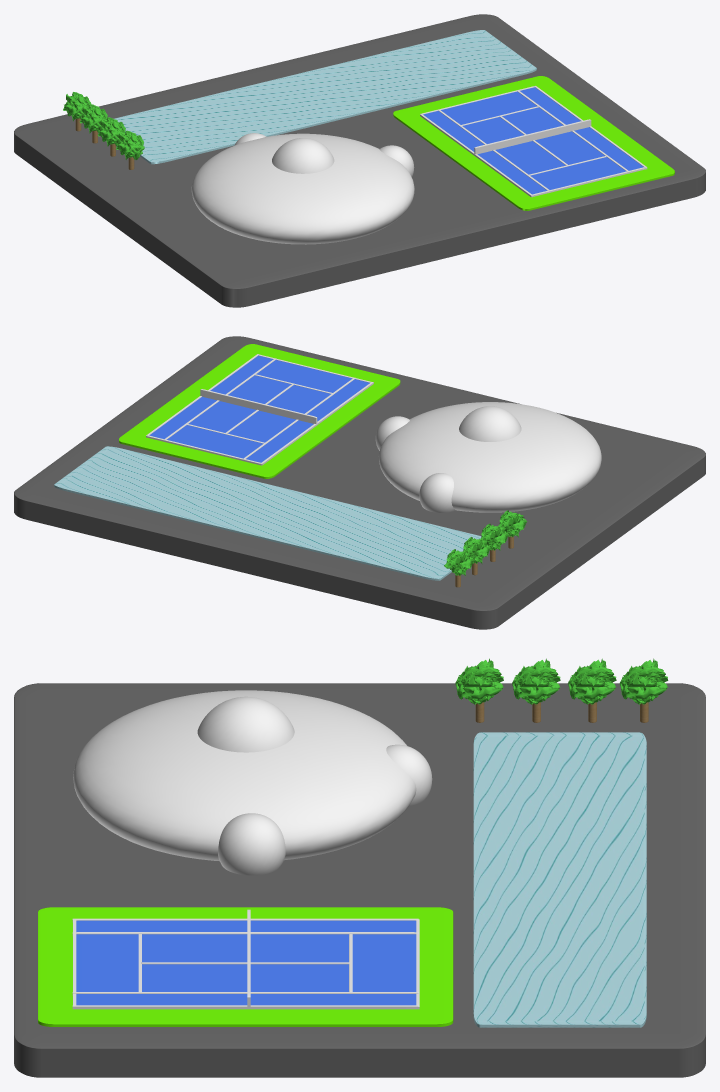
Rendered from country_club.glb.
3 views of the same model, one above another, from view 1: azimuth 30°, elevation 25°; view 2: azimuth 150°, elevation 25°; view 3: azimuth 270°, elevation 25° (orthographic). The views are drawn at different scales.
Visible parts, largest first — view 1: land, water, Sphere 1, court, court_base, Sphere, net, Sphere 3, Box 3; view 2: land, water, Sphere 1, court, court_base, Sphere, Sphere 2, net, Sphere 3, Box 3; view 3: land, water, Sphere 1, court, court_base, Sphere, Sphere 3, Box 2, Sphere 2, Box 3, Box, Box 1.
Part boxes in pixels (bbox=[...]): land: bbox=[14, 14, 705, 307]; water: bbox=[114, 30, 536, 164]; Sphere 1: bbox=[191, 133, 414, 244]; court: bbox=[423, 87, 643, 194]; court_base: bbox=[393, 76, 674, 210]; Sphere: bbox=[272, 138, 334, 173]; net: bbox=[474, 119, 591, 154]; Sphere 3: bbox=[379, 145, 414, 177]; Box 3: bbox=[420, 114, 532, 197]; land: bbox=[14, 336, 705, 629]; water: bbox=[54, 446, 481, 580]; Sphere 1: bbox=[379, 402, 601, 512]; court: bbox=[149, 355, 369, 462]; court_base: bbox=[119, 344, 400, 478]; Sphere: bbox=[459, 406, 521, 441]; Sphere 2: bbox=[419, 473, 455, 512]; net: bbox=[200, 389, 317, 423]; Sphere 3: bbox=[375, 416, 409, 450]; Box 3: bbox=[261, 382, 373, 465]; land: bbox=[14, 683, 705, 1077]; water: bbox=[473, 732, 646, 1027]; Sphere 1: bbox=[73, 690, 416, 861]; court: bbox=[76, 920, 416, 1005]; court_base: bbox=[38, 907, 453, 1026]; Sphere: bbox=[197, 696, 294, 752]; Sphere 3: bbox=[218, 813, 285, 875]; Box 2: bbox=[72, 1005, 418, 1009]; Sphere 2: bbox=[386, 744, 432, 805]; Box 3: bbox=[72, 918, 418, 922]; Box: bbox=[72, 932, 418, 935]; Box 1: bbox=[72, 992, 418, 995].
Size of the model in its own units: 2.5 by 0.3947 by 2.
38 materials, 5 textured.
